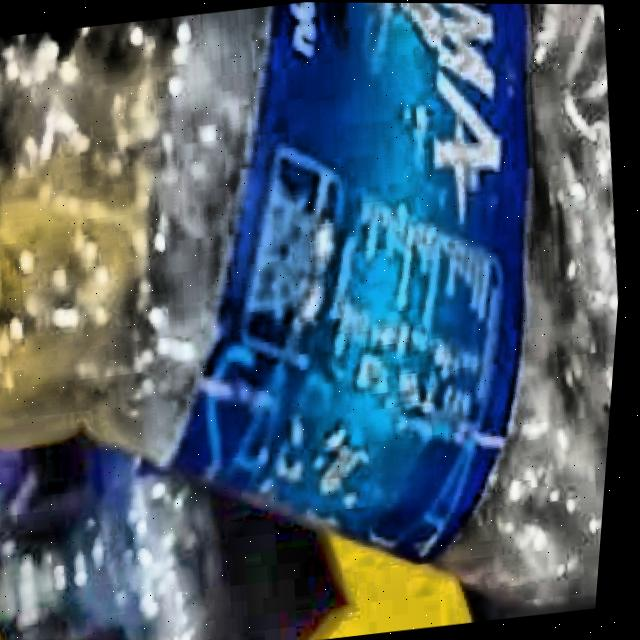plastic: (0, 2, 623, 615)
